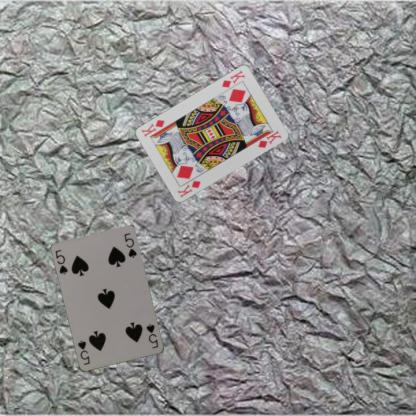5s: (52, 247, 70, 276), (144, 321, 159, 350)
Kd: (175, 178, 202, 199), (219, 68, 246, 89)
